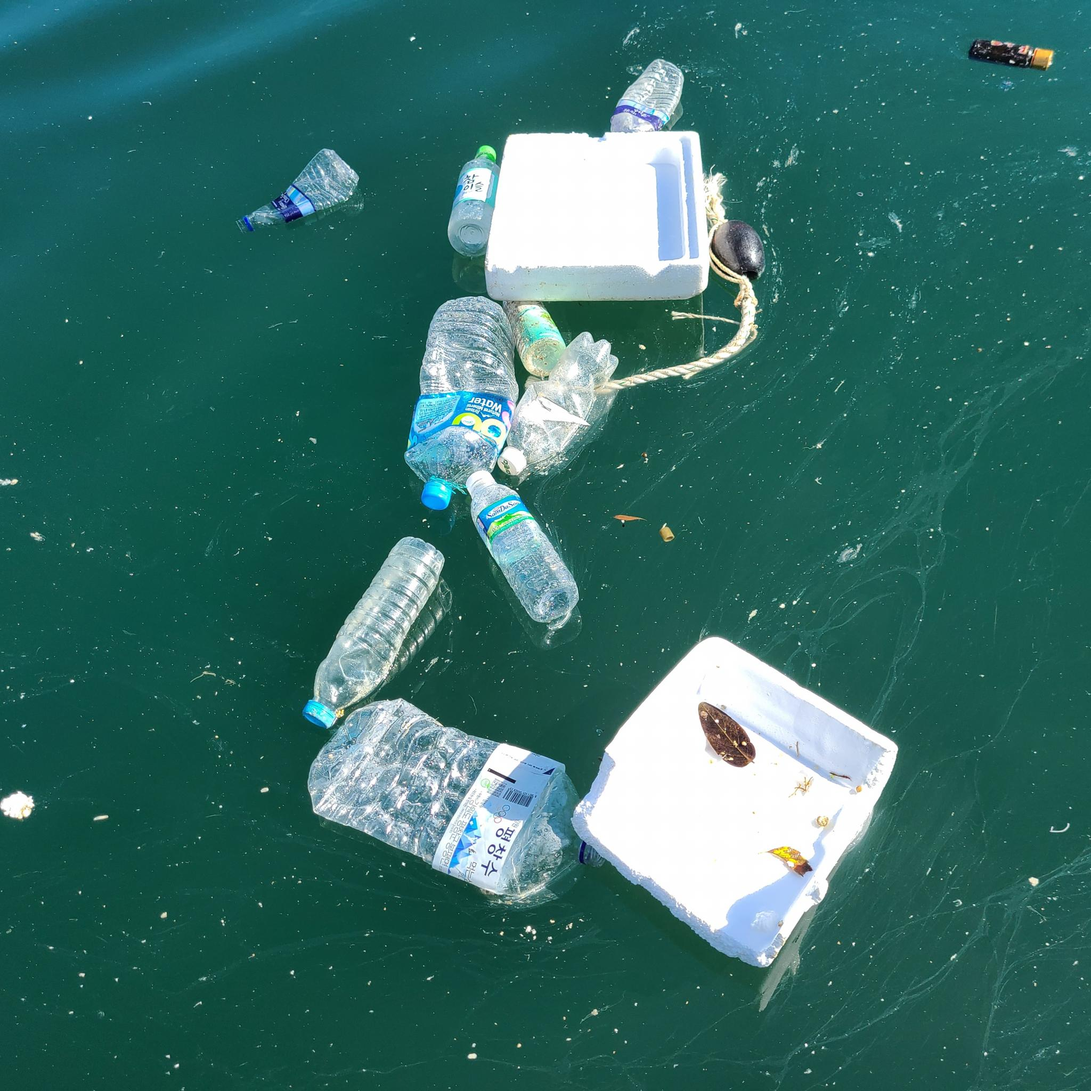sampah_terapung: (571, 637, 899, 968), (307, 699, 608, 898), (485, 131, 710, 301), (605, 167, 763, 393), (303, 536, 445, 729), (405, 297, 519, 510), (466, 470, 580, 624), (498, 332, 619, 477), (235, 149, 360, 235), (449, 145, 501, 258), (611, 60, 684, 134), (503, 300, 567, 378), (711, 221, 766, 281), (971, 41, 1054, 71)
